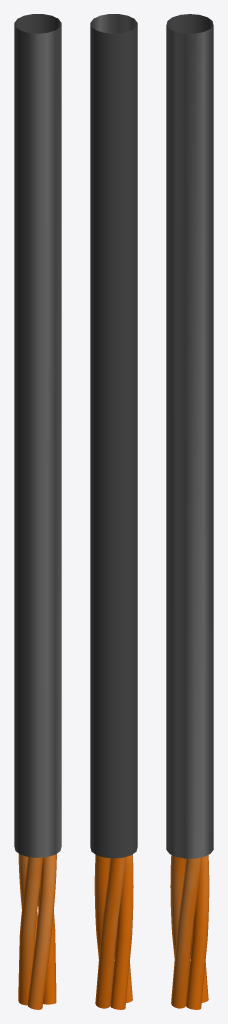
The model's file is DOWN_CABLE.FBX.
3 renders of one model, left to right at view 1: azimuth 30°, elevation 25°; view 2: azimuth 150°, elevation 25°; view 3: azimuth 330°, elevation 25°, orthographic.
Visible parts, largest first — view 1: DOWN_CABLE; view 2: DOWN_CABLE; view 3: DOWN_CABLE.
Boxes of the visible parts, x1=… form: DOWN_CABLE: x1=14, y1=14, x2=61, y2=1009; DOWN_CABLE: x1=90, y1=14, x2=137, y2=1009; DOWN_CABLE: x1=166, y1=14, x2=213, y2=1009.
Bounding box in the file's own units: 33.11 × 765 × 33.3.
